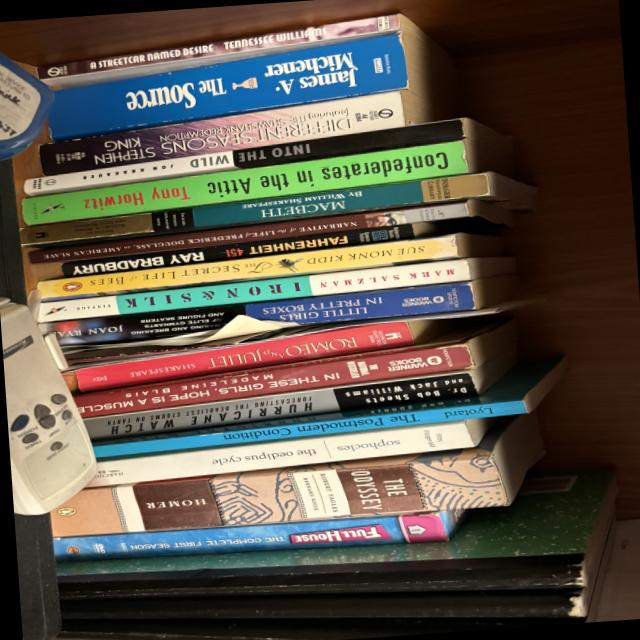book: (43, 412, 547, 542), (88, 355, 570, 459), (70, 313, 519, 419), (41, 27, 454, 142), (18, 135, 497, 228), (79, 348, 518, 445), (17, 168, 537, 248), (20, 113, 511, 197), (35, 86, 429, 177), (35, 228, 503, 302), (35, 253, 515, 324), (33, 9, 439, 92), (24, 196, 511, 265), (83, 415, 496, 488), (70, 317, 415, 395)
